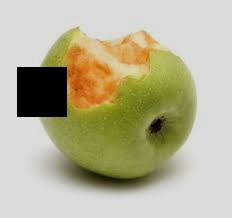rotten apple: (32, 19, 207, 181)
